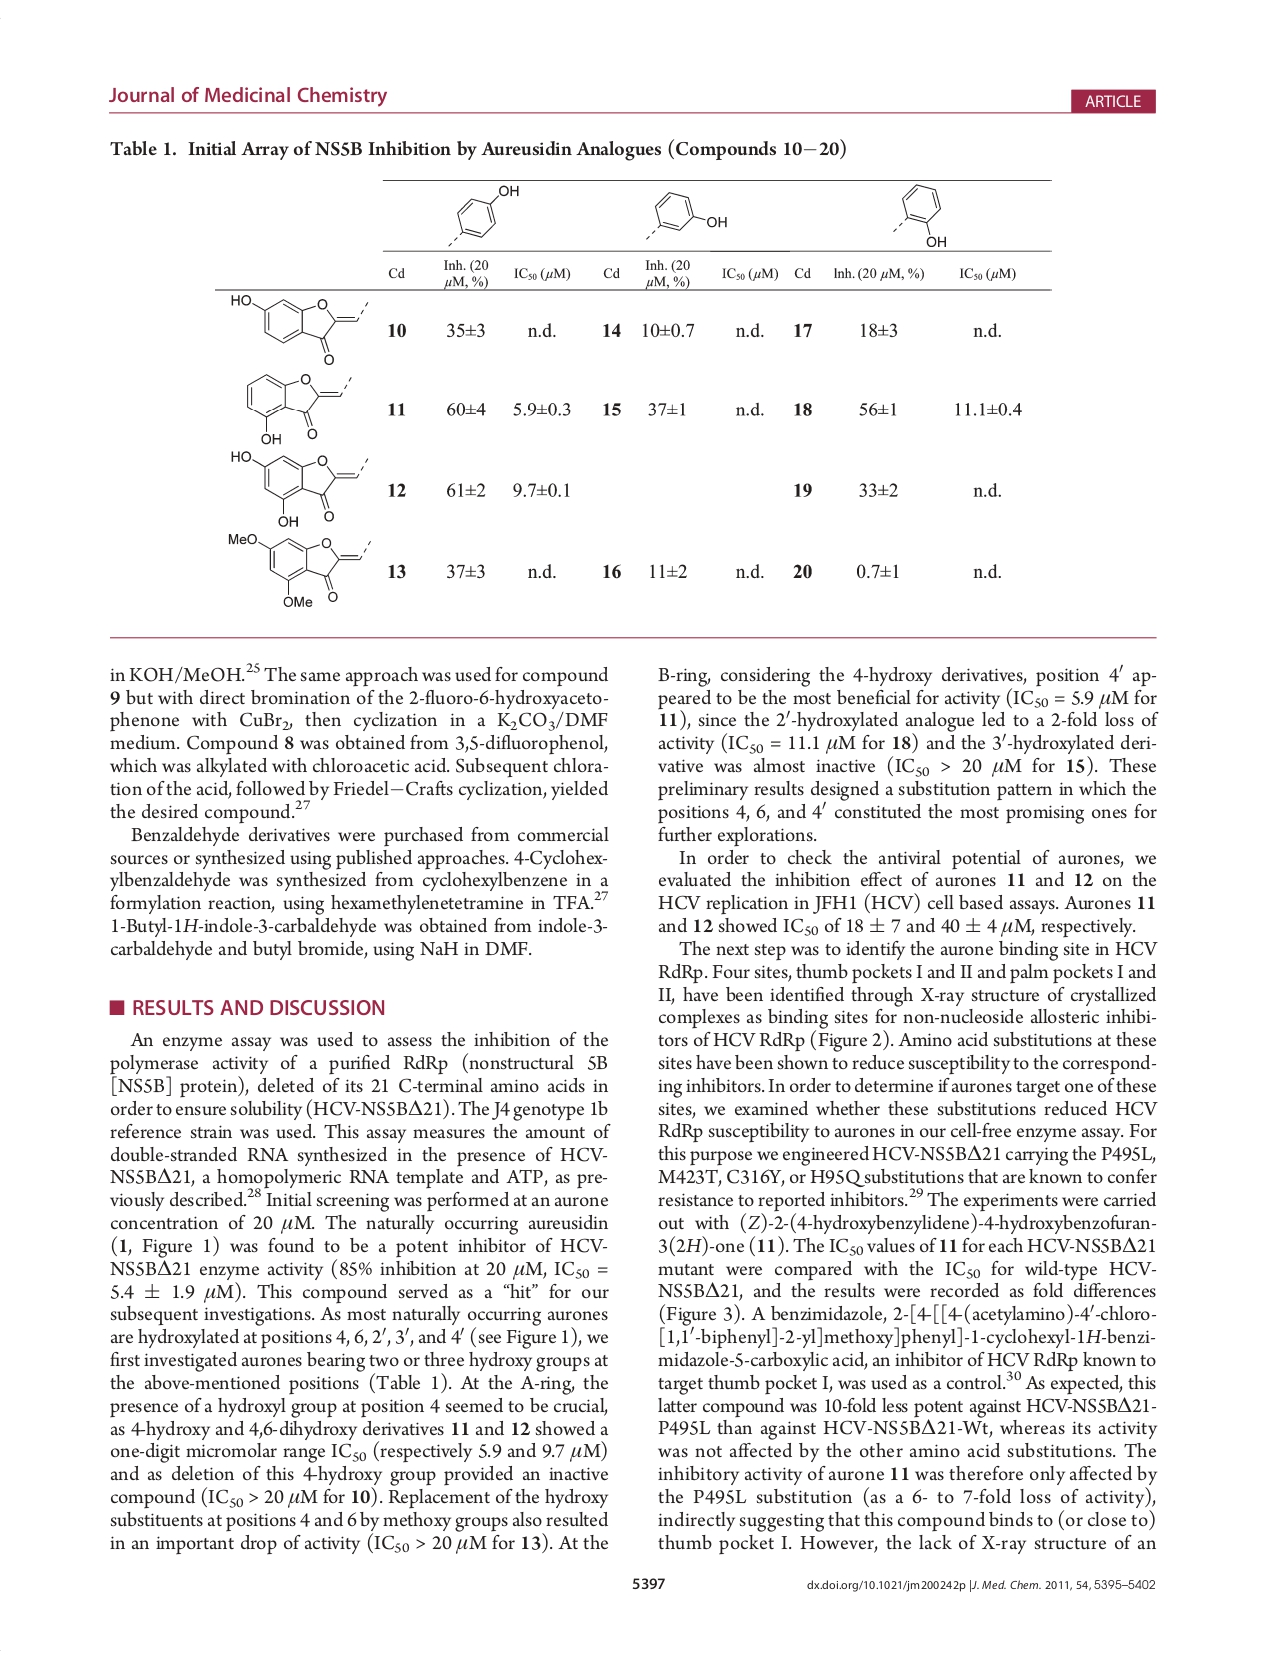exist_molecular: (225, 529, 374, 610), (227, 446, 370, 529), (227, 291, 372, 366), (243, 372, 354, 446), (445, 184, 521, 249), (641, 188, 727, 241), (890, 182, 952, 247)
